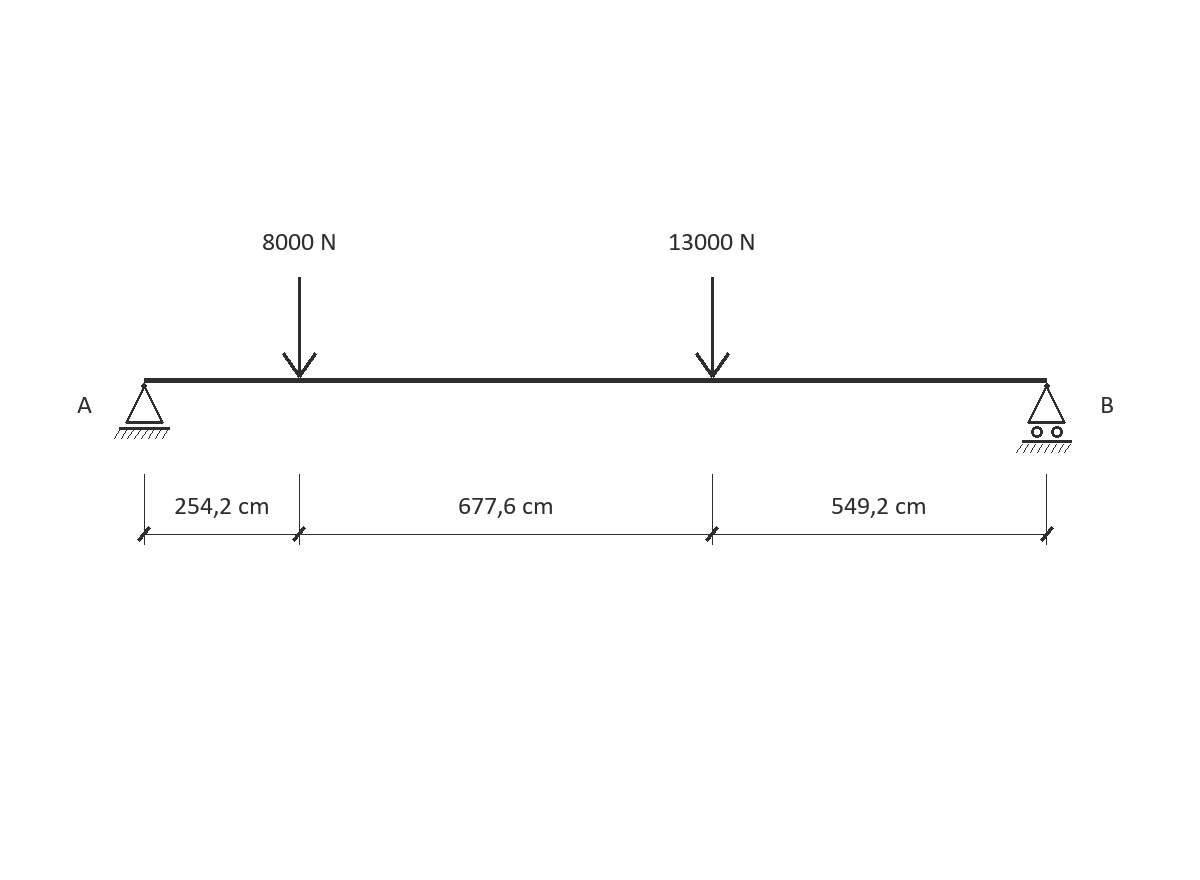pin_support: (114, 383, 170, 439)
point_load: (282, 277, 317, 378), (695, 277, 730, 378)
roller_support: (1016, 383, 1072, 453)
